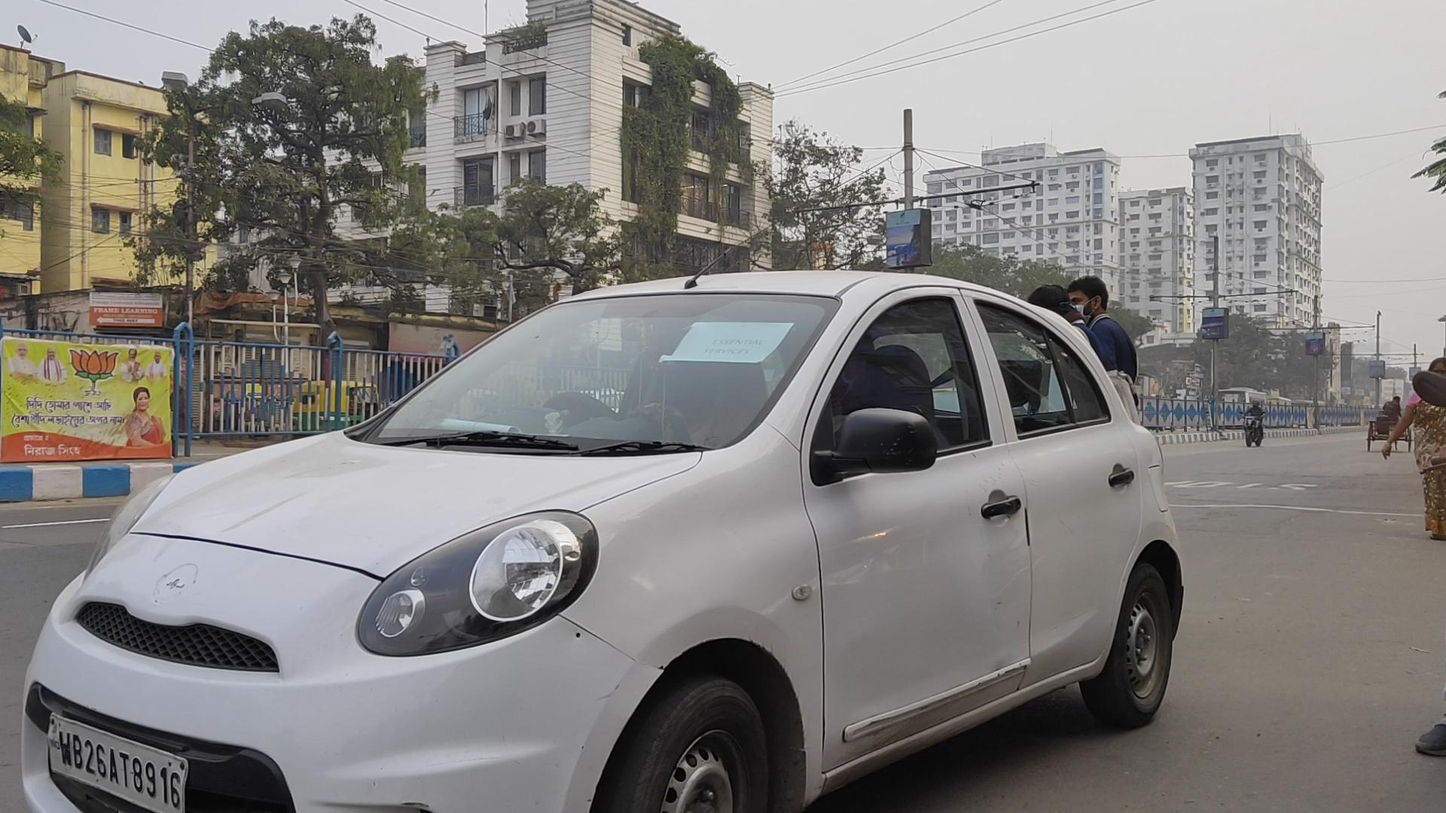bike: (1239, 400, 1265, 448)
car: (19, 269, 1185, 813)
